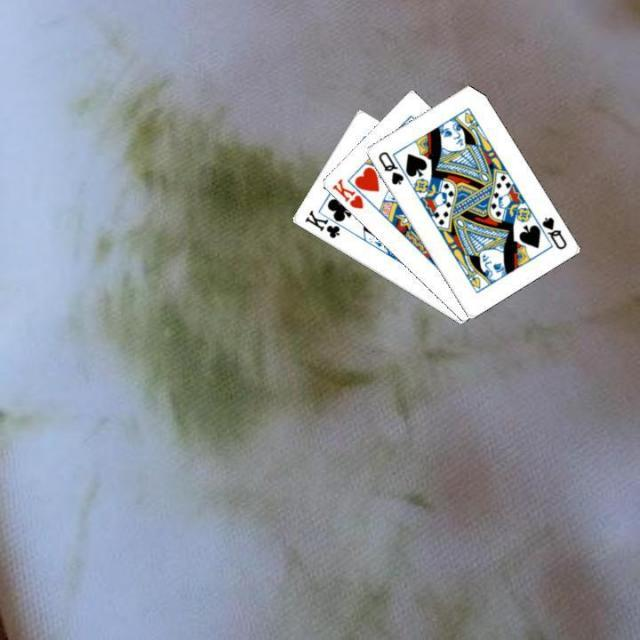KC: (300, 206, 350, 240)
KH: (328, 174, 366, 211)
QS: (374, 148, 406, 186), (538, 214, 568, 252)
